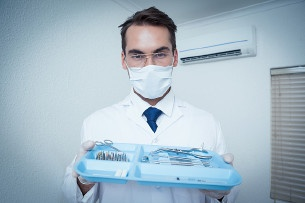Mask: (125, 44, 179, 97)
